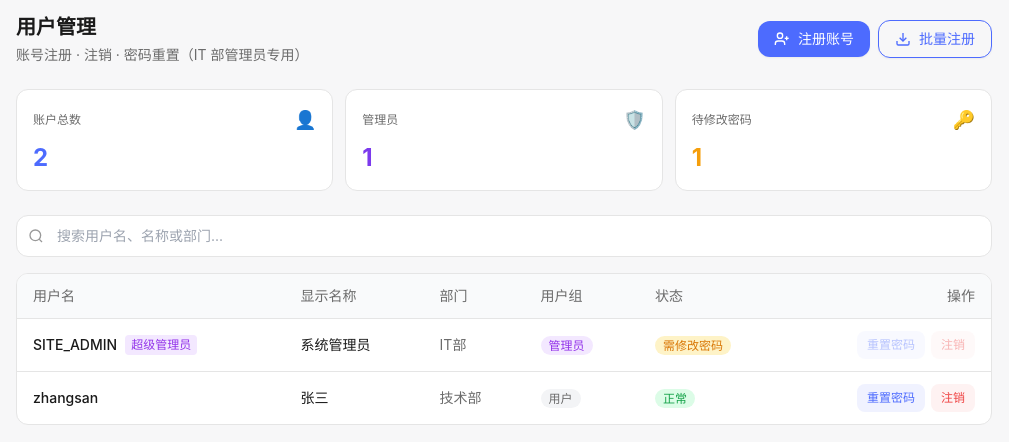
it: UserManagement › 搜索过滤用户
This screenshot has width=1009, height=442.
Expected: the text "zhangsan" is shown, [33,388,98,408]
Type "zhangsan" into the field with placeholder "搜索用户名、名称或部门...". click: (504, 236)
box: [16,215,992,257]
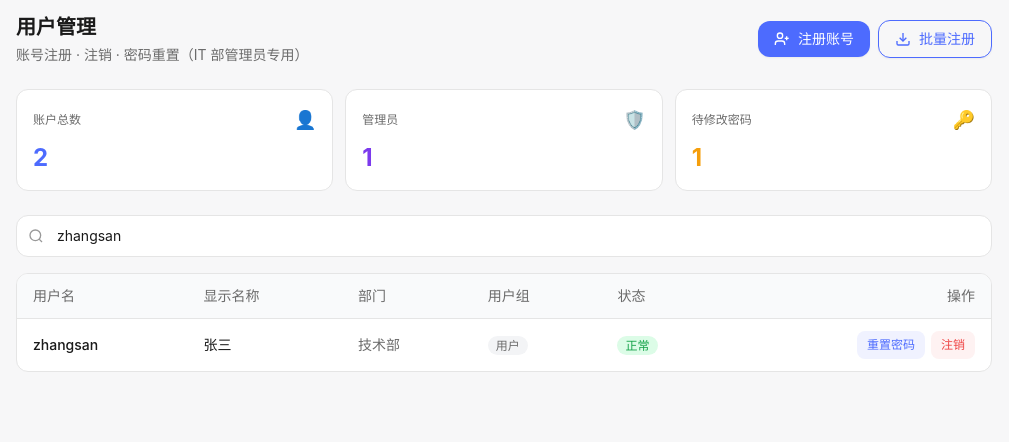
Expected: the text "zhangsan" is shown, [33,335,98,355]
Expected: the text "SITE_ADMIN" is gone
